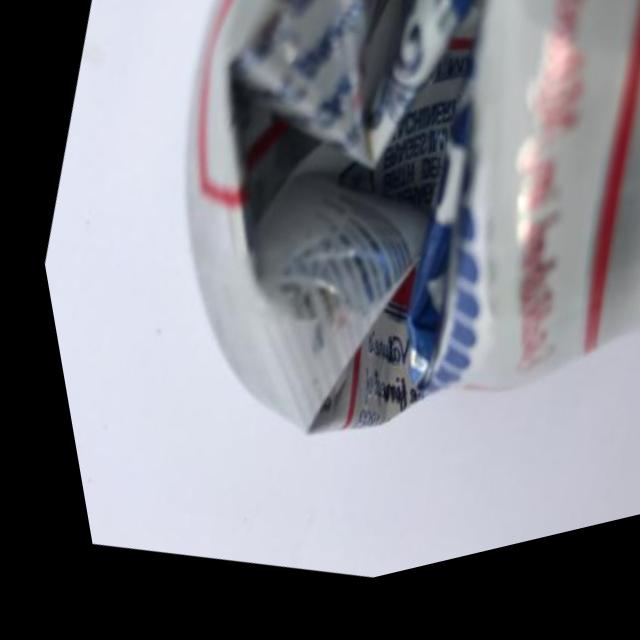metal: (18, 0, 640, 637)
